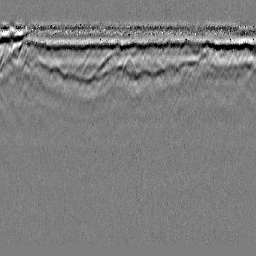cavity: (120, 52, 136, 79)
